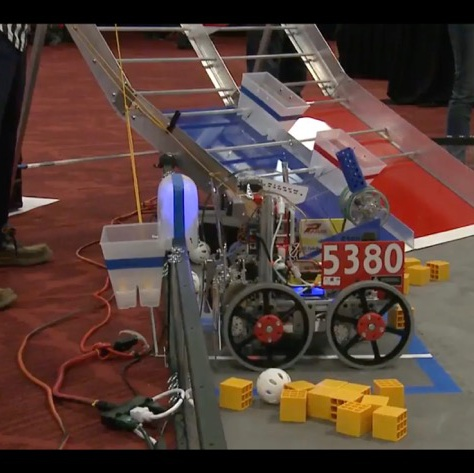robot: (196, 143, 415, 374)
